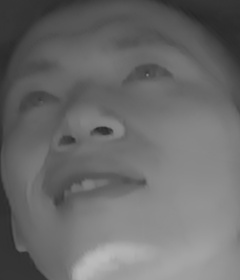eye: (116, 58, 177, 95), (10, 85, 64, 117)
mouth: (43, 155, 148, 220)
